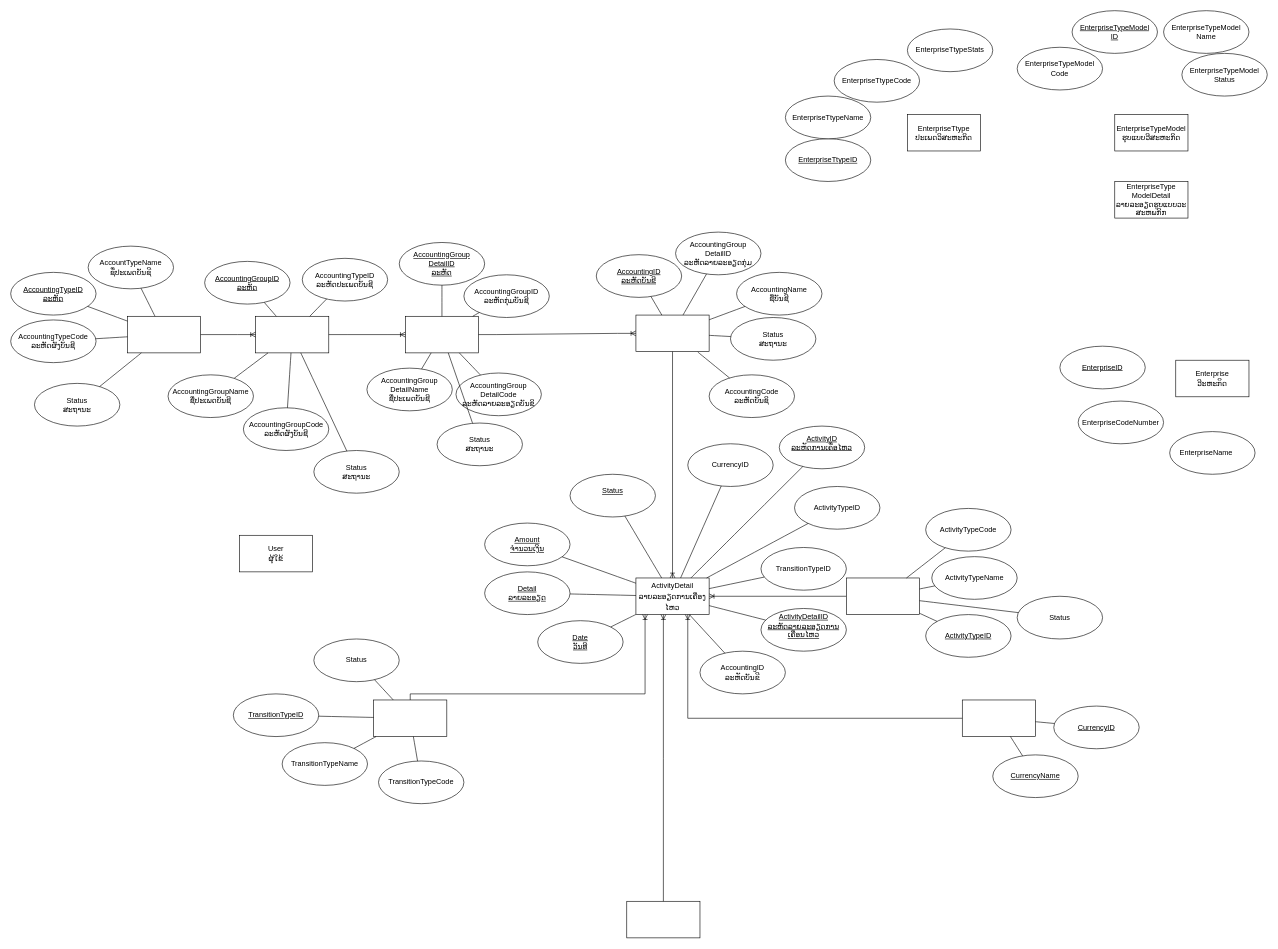
Image size: 1278x949. Some labels were removed from this diagram. The centre of each missing label's shape, as x and y in pixels:
"Accounting Group Detail ລາຍລະອຽດໝວດບັນຊິ" belongs at [442,334].
"Accounting Group ໝວດບັນຊີ" belongs at [292,334].
"Accounting Type ປະເພດຍັນຊີ" belongs at [164,334].
"Accounting ບັນຊິ" belongs at [672,333].
"Activity ການເຄື່ອນໄຫວ" belongs at [663,919].
"ActivityType ປະເພດການເຄື່ອນໄຫວ" belongs at [883,596].
"Currency" belongs at [998,718].
"TransitionType ປະເພດການ" belongs at [410,718].
